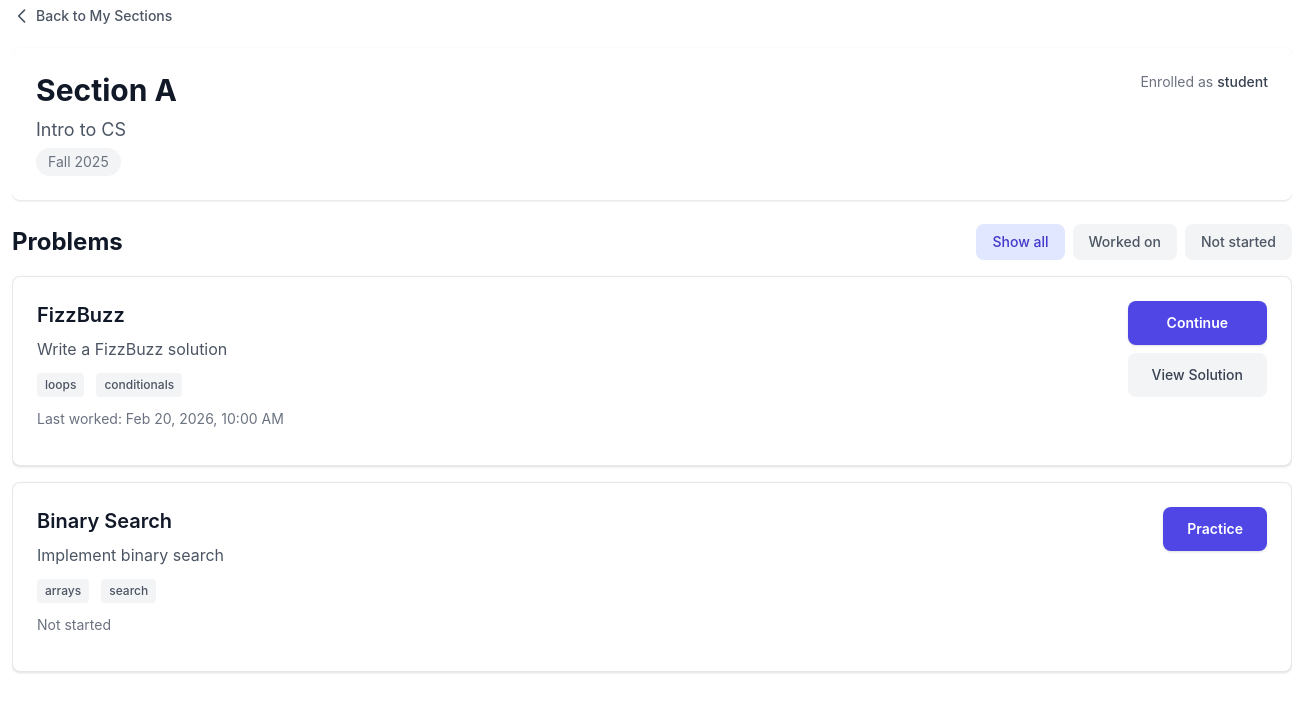
StudentSectionView › problem filter toggle › filters to unstarted problems when "Not started" toggle is clicked
Expected: the heading "FizzBuzz" is shown, [37,301,125,329]
Expected: the heading "Binary Search" is shown, [37,507,172,535]
Click the button "Not started": (1238, 242) [1185,224,1292,260]
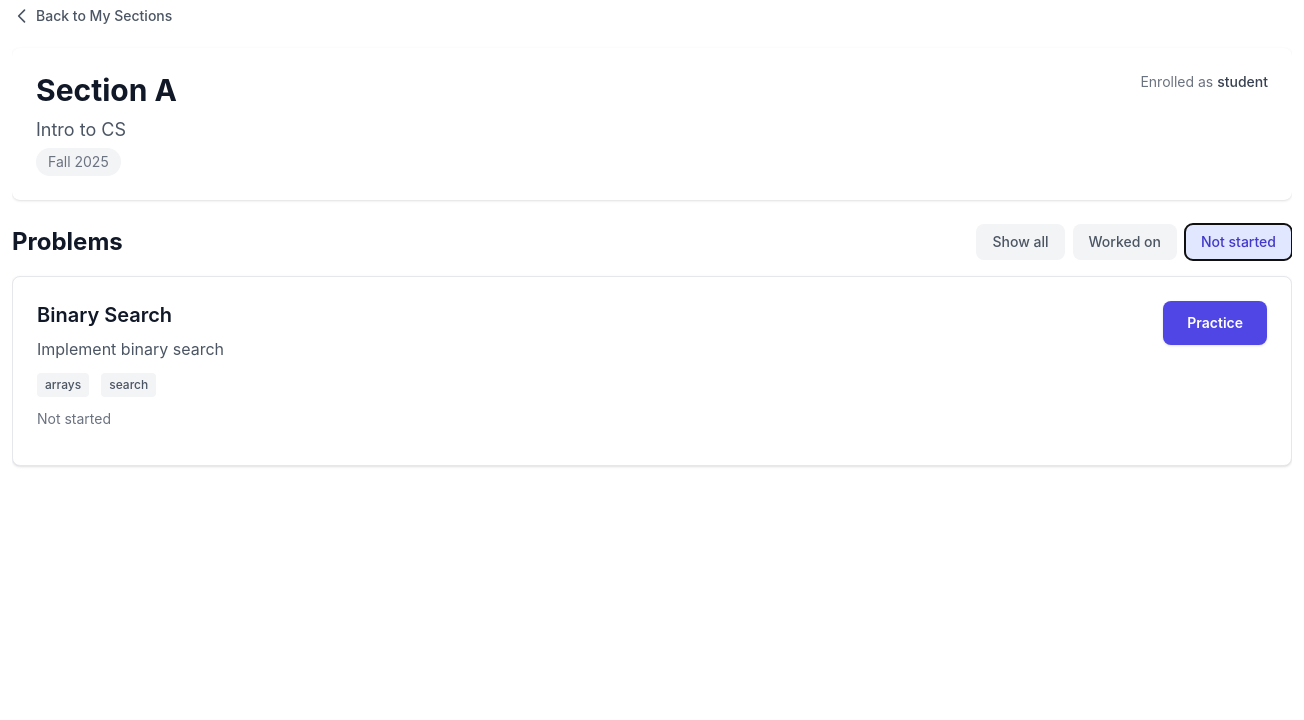
Expected: the heading "Binary Search" is shown, [37,301,172,329]
Now the heading "FizzBuzz" is gone
